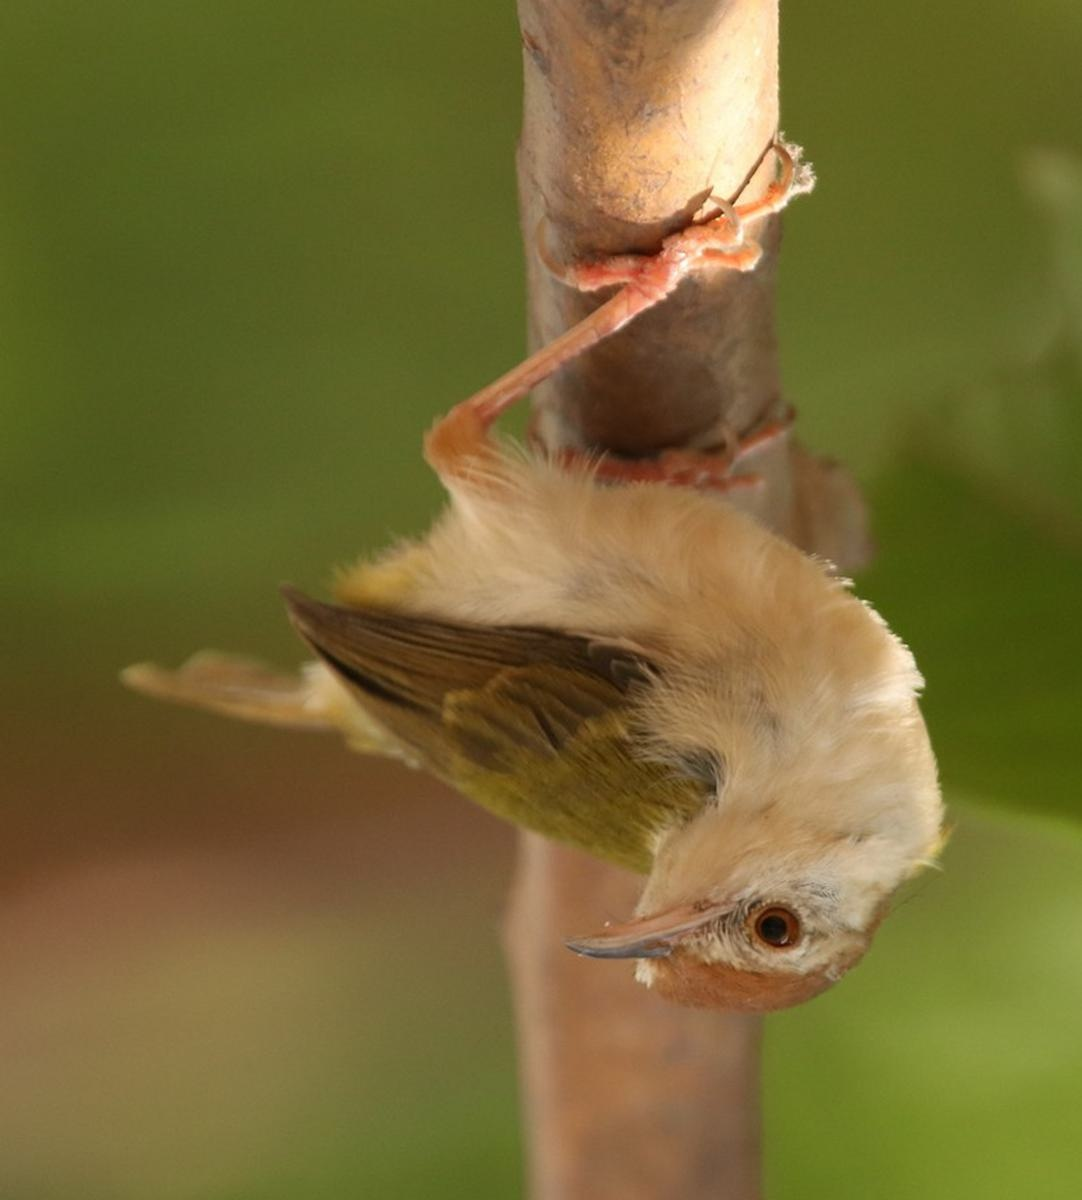tailorbird: (140, 233, 971, 1063)
